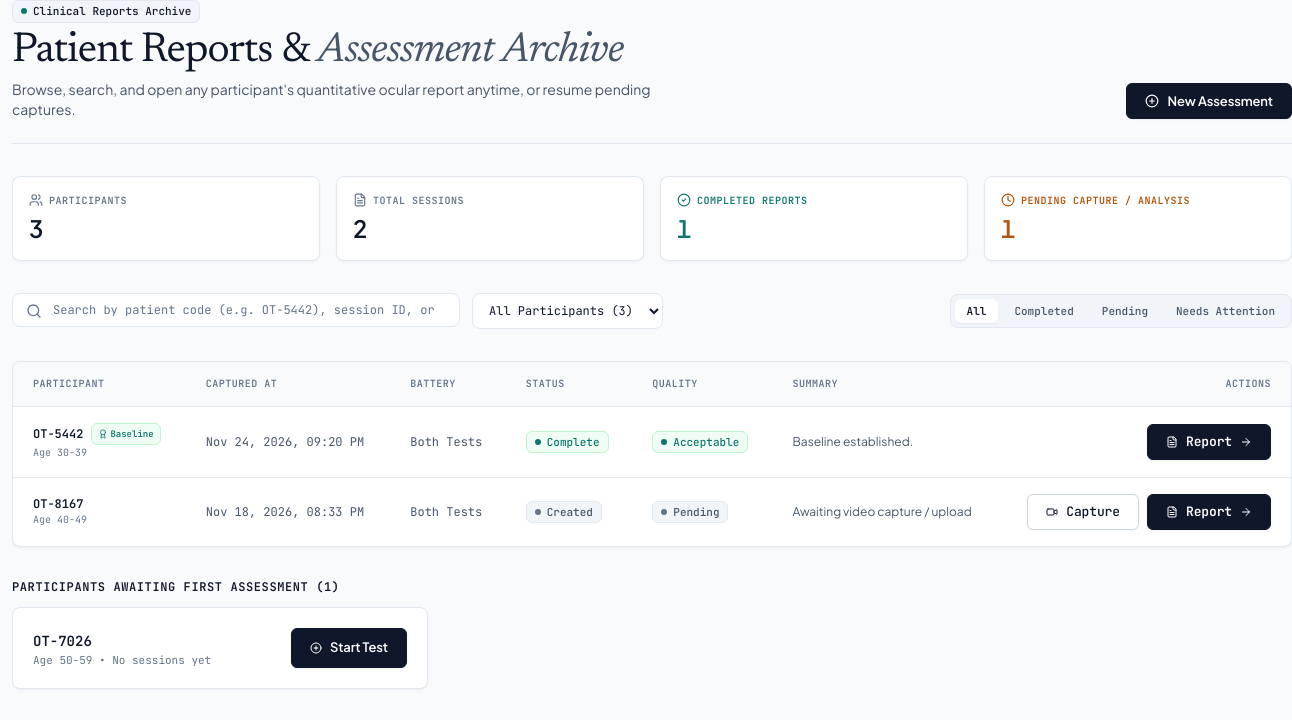
Test: ReportsDirectoryPage › lists all patients and assessment reports and allows filtering by code and status
Expected: the link "OT-5442" is shown, [33, 426, 83, 442]
Expected: the link "OT-8167" is shown, [33, 496, 83, 512]
// Filter by Completed status
Click the button "Completed".
click(1044, 310)  # box [1002, 298, 1086, 322]
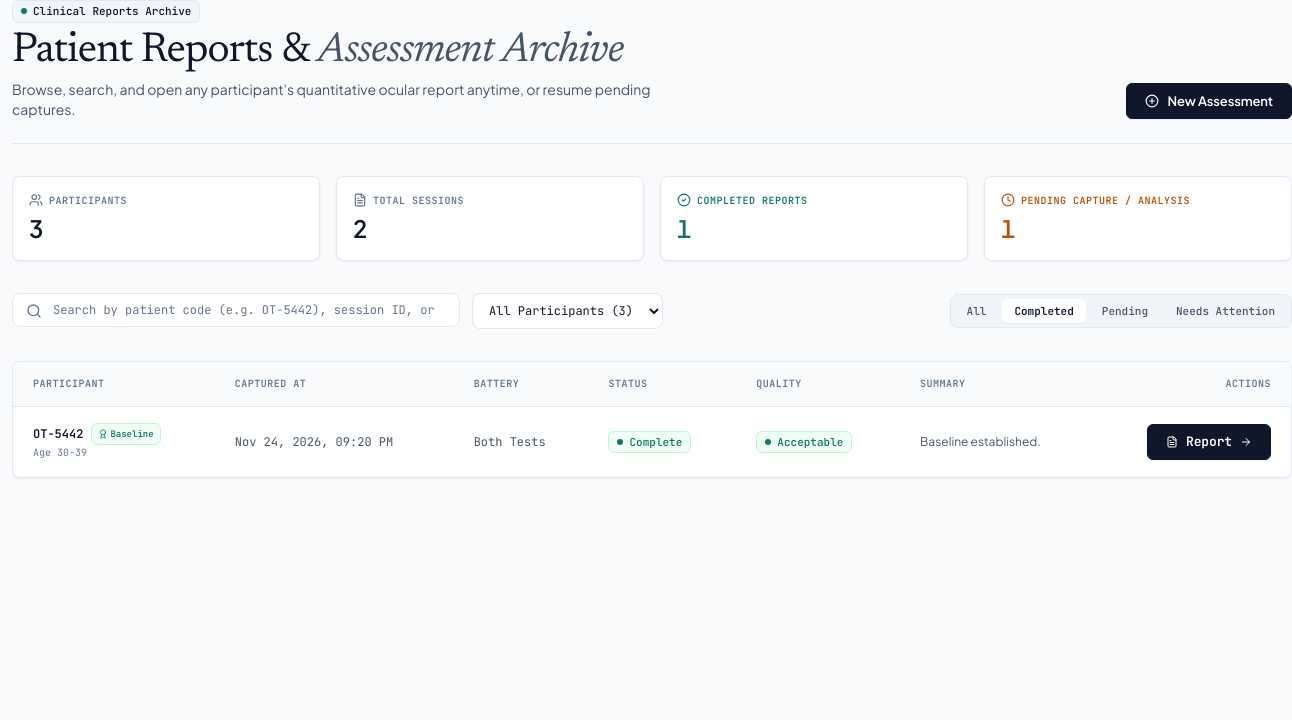
Expected: the link "OT-5442" is shown, [33, 426, 83, 442]
Now the link "OT-8167" is gone
